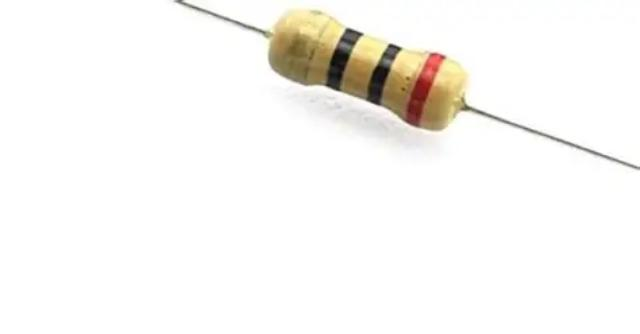black: (323, 27, 362, 91), (364, 44, 404, 105)
gold: (281, 10, 333, 85)
red: (403, 52, 448, 130)
resistor: (255, 0, 485, 144)
